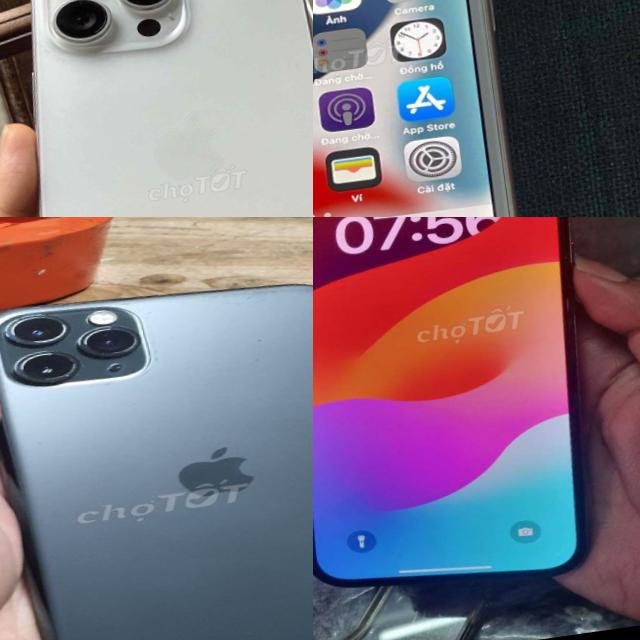gen_11: (0, 248, 313, 640)
gen_12_13: (313, 217, 628, 618)
gen_15: (0, 0, 313, 217)
gen_7_8: (313, 0, 567, 217)
